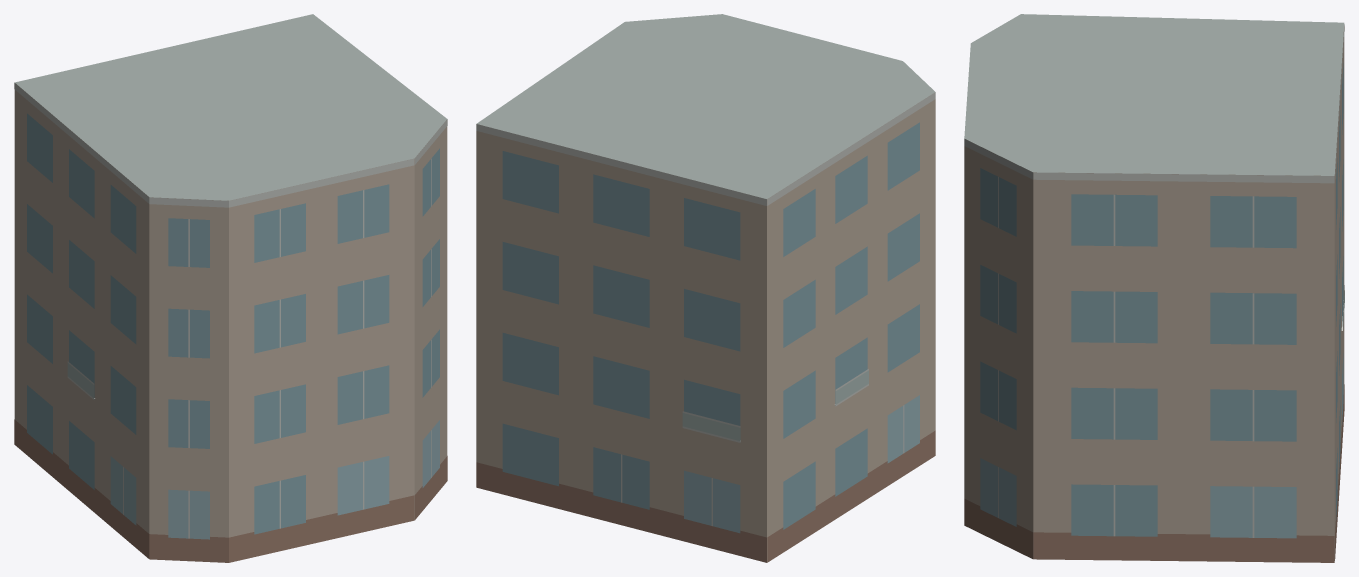
File: survey-upis-32659757.glb
3 renders of one model, left to right at view 1: azimuth 30°, elevation 25°; view 2: azimuth 150°, elevation 25°; view 3: azimuth 270°, elevation 25°, orthographic. The views are drawn at different scales.
Visible parts, largest first — view 1: survey-upis-32659757.tmp; view 2: survey-upis-32659757.tmp; view 3: survey-upis-32659757.tmp.
Boxes of the visible parts, x1,y1,x2,y2 form: survey-upis-32659757.tmp: (14,14,447,562); survey-upis-32659757.tmp: (476,14,935,562); survey-upis-32659757.tmp: (964,14,1344,562).
Size of the model in its own units: 11.5 by 12.8 by 11.42.
